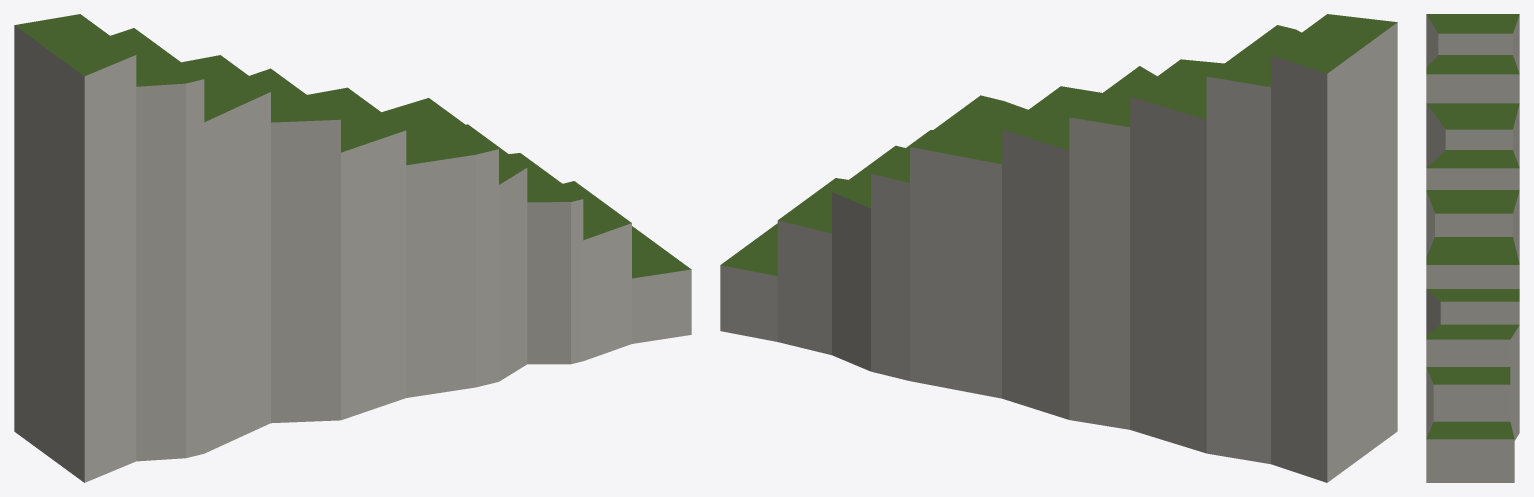
File: Terrain_Modular_Tiles_Grass_Rock_Stairs_01.fbx
The picture shows the model from 3 angles, left to right: view 1: azimuth 30°, elevation 25°; view 2: azimuth 150°, elevation 25°; view 3: azimuth 270°, elevation 25°; orthographic projection. The views are drawn at different scales.
Parts seen in each view (by area): view 1: Terrain_Modular_Tiles_Grass_Rock_Stairs_01; view 2: Terrain_Modular_Tiles_Grass_Rock_Stairs_01; view 3: Terrain_Modular_Tiles_Grass_Rock_Stairs_01.
Boxes of the visible parts, x1=… form: Terrain_Modular_Tiles_Grass_Rock_Stairs_01: x1=14, y1=14, x2=691, y2=482; Terrain_Modular_Tiles_Grass_Rock_Stairs_01: x1=720, y1=14, x2=1397, y2=482; Terrain_Modular_Tiles_Grass_Rock_Stairs_01: x1=1426, y1=14, x2=1519, y2=482.
Size of the model in its own units: 148 by 94.49 by 29.53.
